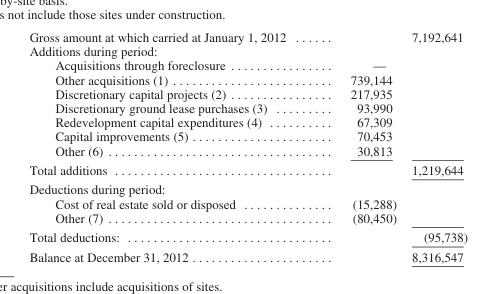table: (28, 29, 467, 263)
table column: (28, 29, 317, 263), (317, 29, 403, 263), (403, 29, 467, 263)
table column header: (28, 29, 467, 43)
table projected row header: (28, 179, 467, 196), (28, 43, 467, 57)
table row: (28, 159, 467, 179), (28, 227, 467, 246), (28, 179, 467, 196), (28, 210, 467, 227), (28, 246, 467, 263), (28, 143, 467, 159), (28, 57, 467, 72), (28, 128, 467, 143), (28, 29, 467, 43), (28, 43, 467, 57), (28, 72, 467, 86), (28, 86, 467, 100), (28, 100, 467, 114), (28, 114, 467, 128), (28, 196, 467, 210)
